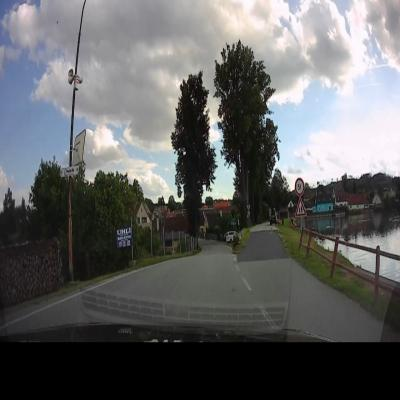clear-road: (99, 230, 384, 342)
